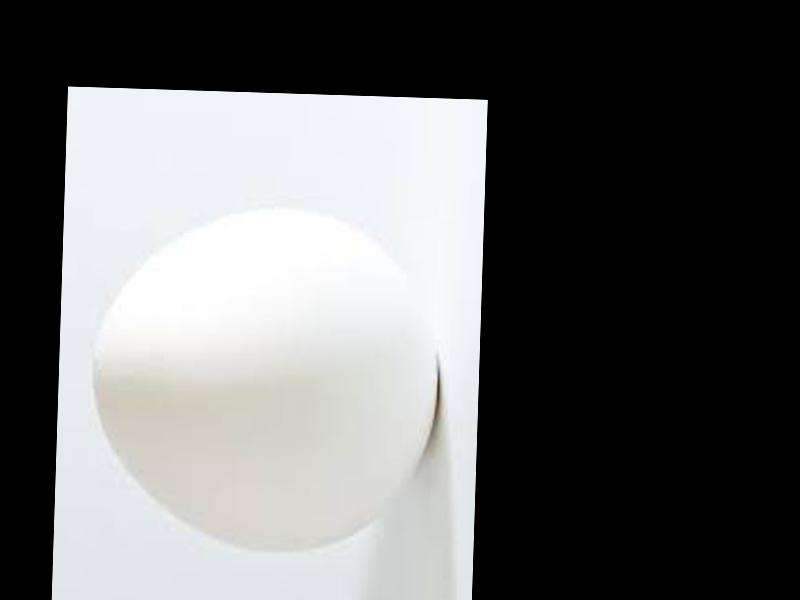Eggs: (85, 204, 443, 553)
